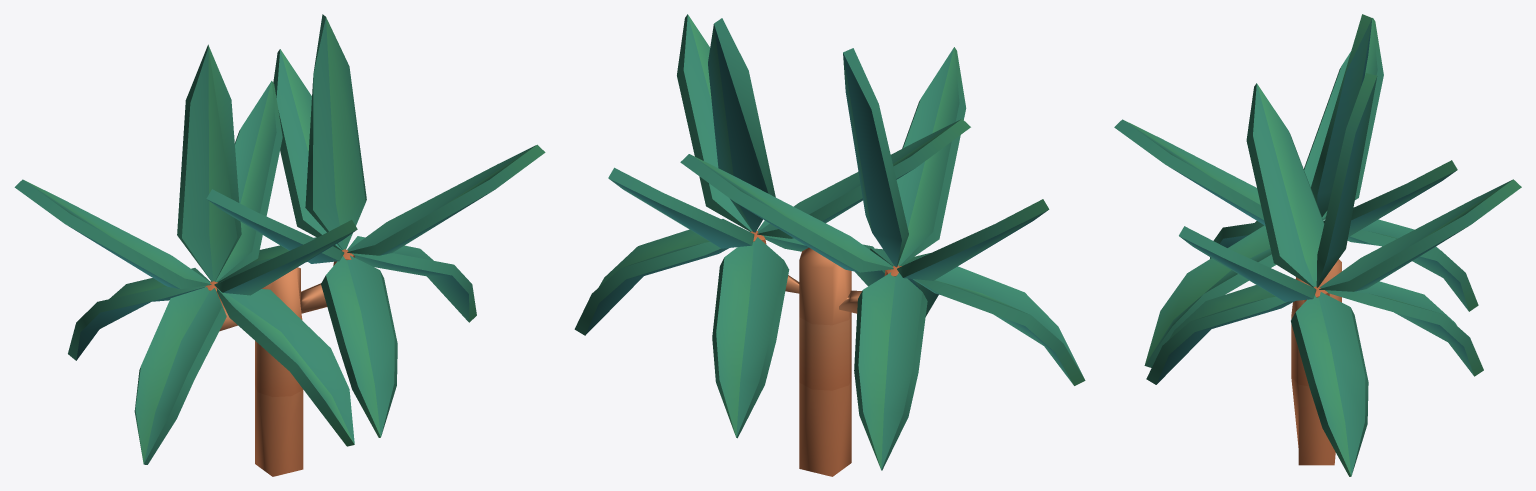
Rendered from cycad.glb.
The picture shows the model from 3 angles, left to right: view 1: azimuth 30°, elevation 25°; view 2: azimuth 150°, elevation 25°; view 3: azimuth 270°, elevation 25°; orthographic projection. The views are drawn at different scales.
Parts seen in each view (by area): view 1: yucca_branch_medium_A; view 2: yucca_branch_medium_A; view 3: yucca_branch_medium_A.
Part boxes in pixels (x1=…): yucca_branch_medium_A: x1=14, y1=14, x2=545, y2=476; yucca_branch_medium_A: x1=574, y1=14, x2=1085, y2=476; yucca_branch_medium_A: x1=1114, y1=14, x2=1521, y2=476.
Size of the model in its own units: 1.22 by 1.07 by 0.9402.
Materials: 1 (1 with a texture image).
